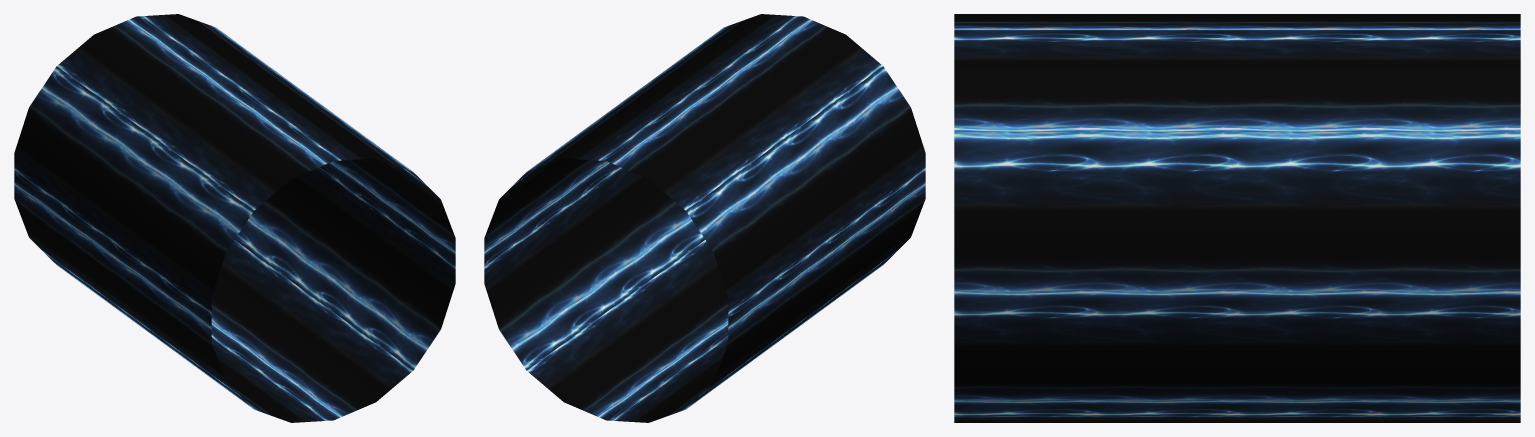
Rendered from Tunnel.FBX.
3 renders of one model, left to right at view 1: azimuth 30°, elevation 25°; view 2: azimuth 150°, elevation 25°; view 3: azimuth 270°, elevation 25°, orthographic. The views are drawn at different scales.
Parts seen in each view (by area): view 1: Tube01; view 2: Tube01; view 3: Tube01.
Boxes of the visible parts, x1=… form: Tube01: x1=14, y1=14, x2=455, y2=422; Tube01: x1=484, y1=14, x2=925, y2=422; Tube01: x1=954, y1=14, x2=1520, y2=422.
Bounding box in the file's own units: 2856 × 2900 × 4000.
1 material, 1 textured.
